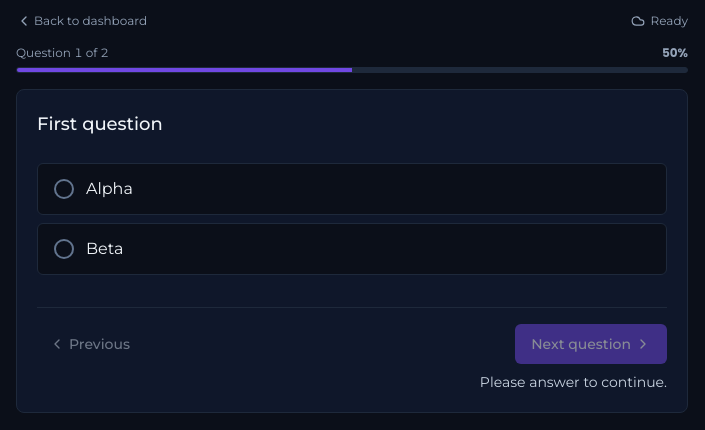
Test: AssessmentRunner optimistic navigation › advances to the next question without waiting for a pending autosave
Click the radio button labelled "Alpha". click: (109, 189)
box: [37,163,667,215]
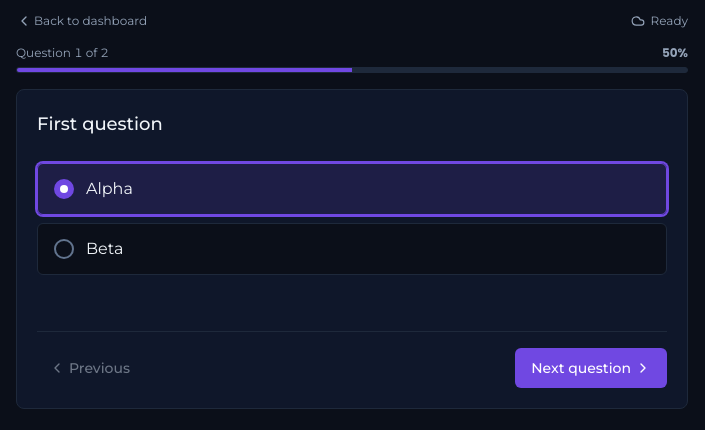
Click the button "Next question". click: (591, 368)
box: [515,348,667,388]
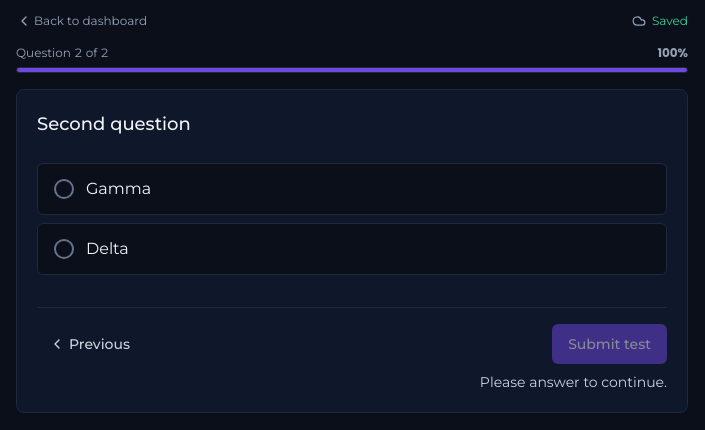
Expected: the text "Second question" is shown, [37,113,191,135]
Expected: the text "Question 2 of 2" is shown, [16,45,109,61]
